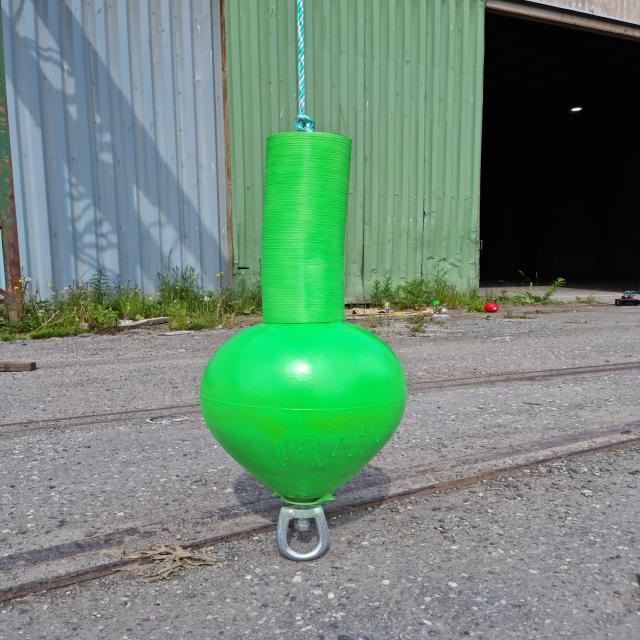green: (198, 133, 409, 504)
